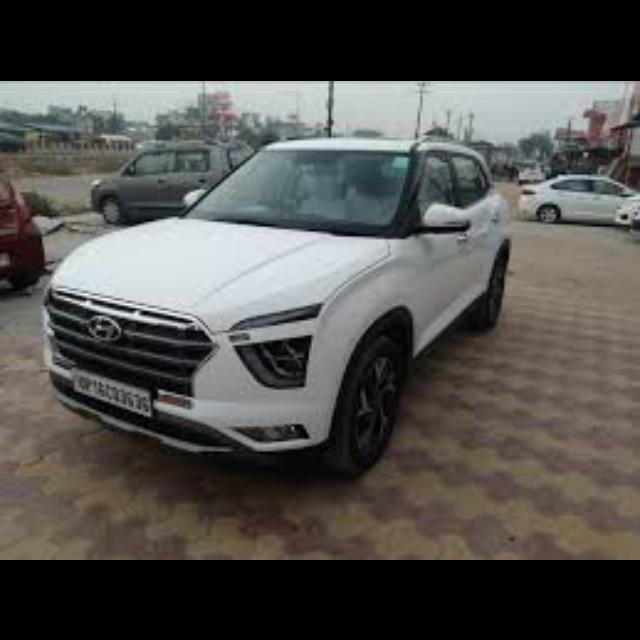vehicles: (15, 132, 628, 480), (86, 139, 248, 223), (516, 169, 640, 223), (0, 174, 44, 290)
